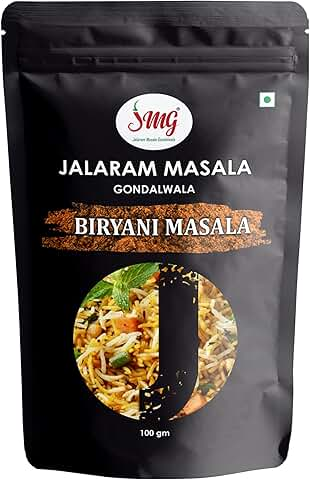Biryani: (2, 3, 310, 480)
